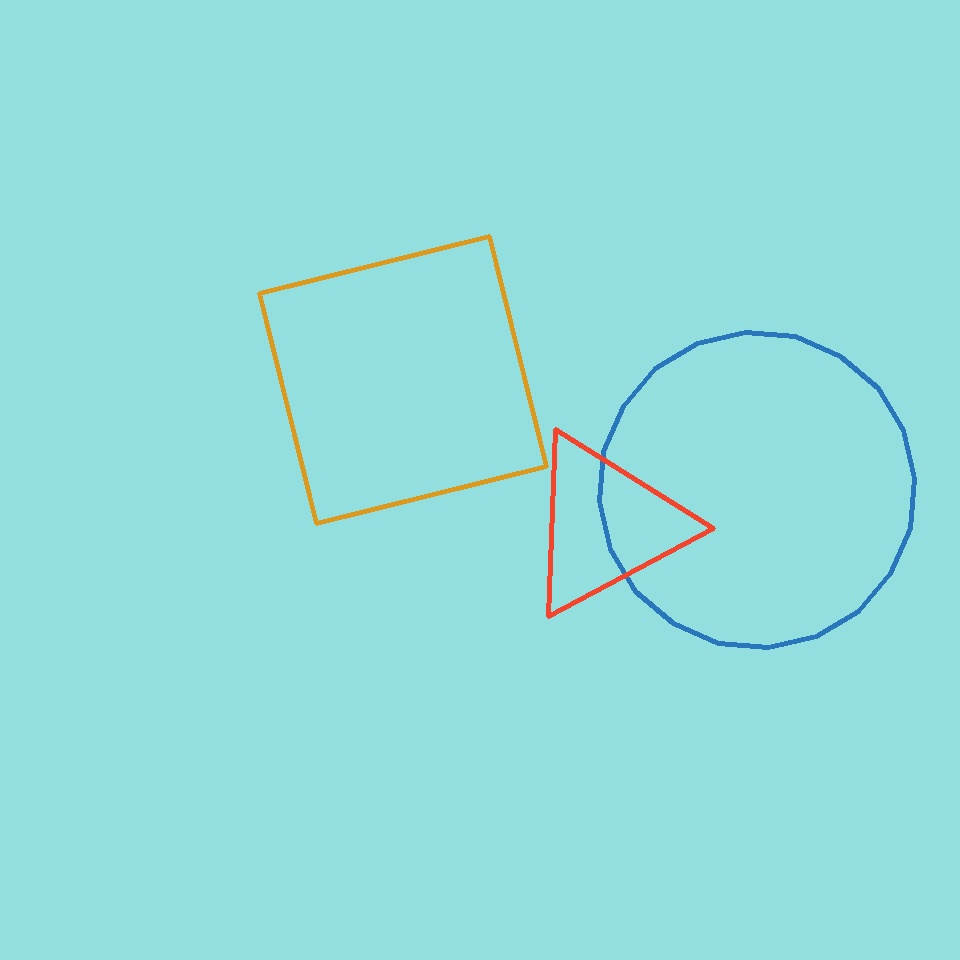circle: (524, 432, 688, 618)
square: (260, 236, 546, 524)
triangle: (600, 332, 914, 648)
